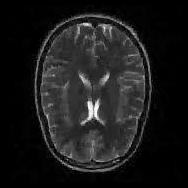Normal_Brain: (18, 11, 176, 188)
